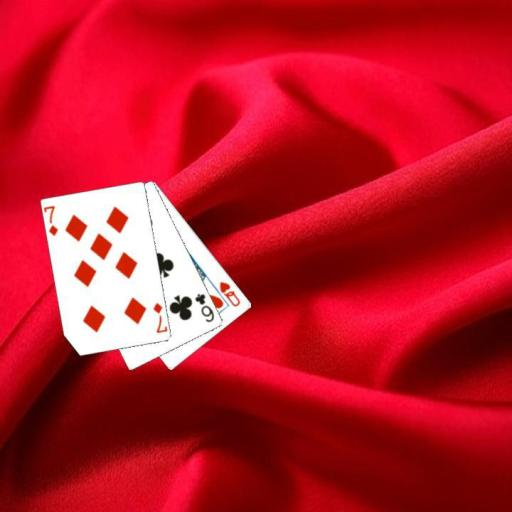6C: (192, 290, 216, 324)
7D: (150, 299, 168, 335), (43, 203, 60, 238)
QH: (216, 278, 242, 308)
